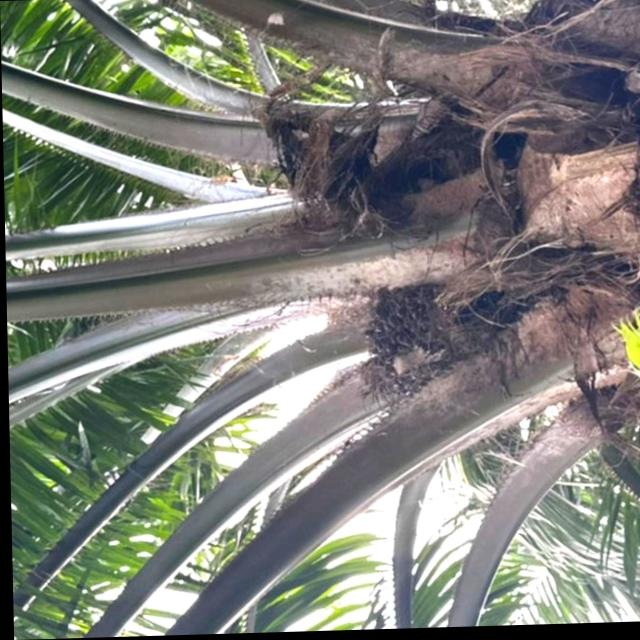ripe: (358, 275, 452, 401)
